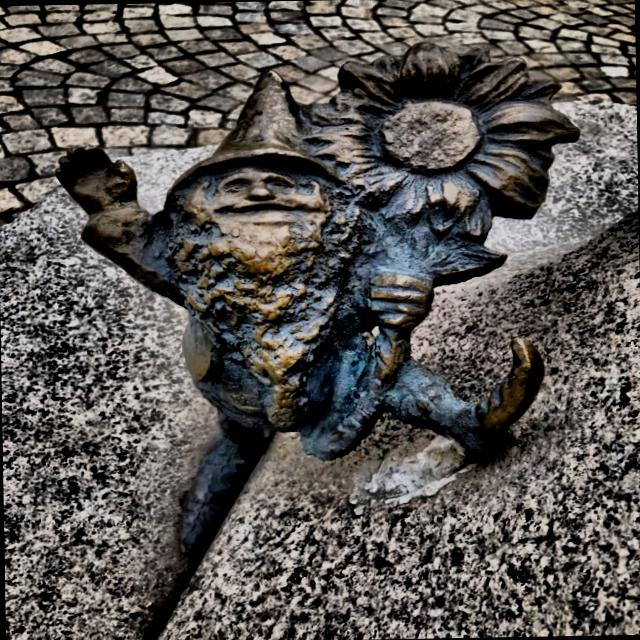Zyczliwek: (57, 43, 578, 554)
